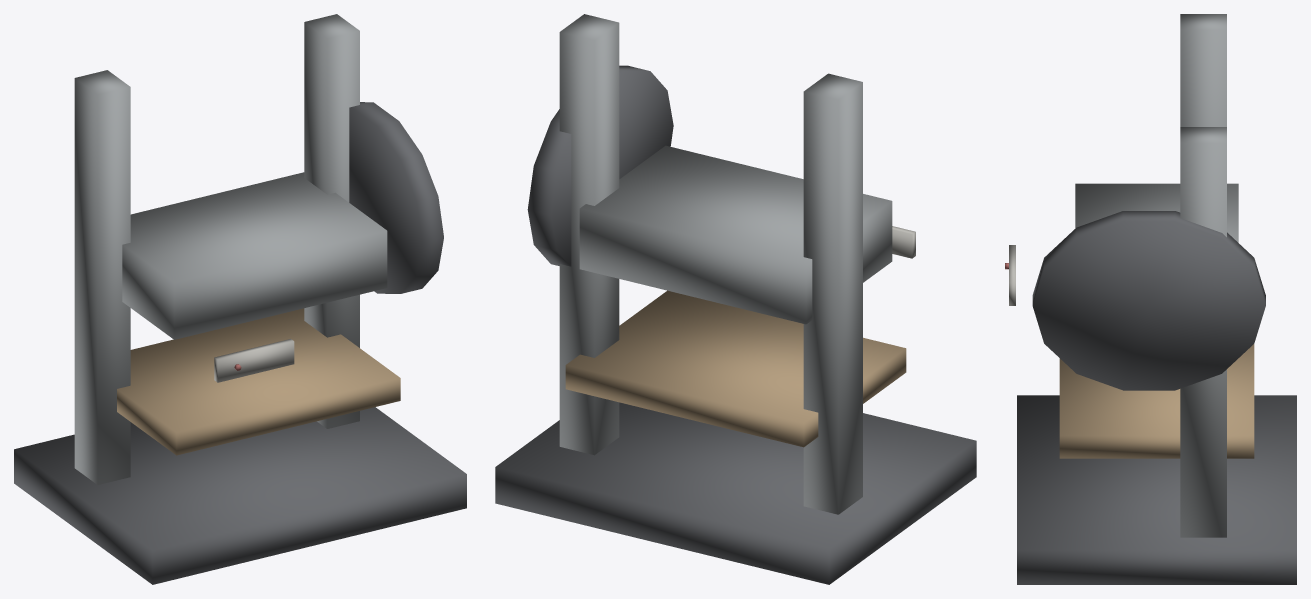
The model's file is letterpress_silhouette__deep.glb.
The picture shows the model from 3 angles, left to right: view 1: azimuth 30°, elevation 25°; view 2: azimuth 150°, elevation 25°; view 3: azimuth 270°, elevation 25°; orthographic projection. The views are drawn at different scales.
Parts seen in each view (by area): view 1: world; view 2: world; view 3: world.
Part boxes in pixels (left/top/right/bottom): world: left=14, top=14, right=466, bottom=584; world: left=495, top=14, right=976, bottom=584; world: left=1005, top=14, right=1296, bottom=584.
Size of the model in its own units: 1.15 by 1.49 by 0.9162.
